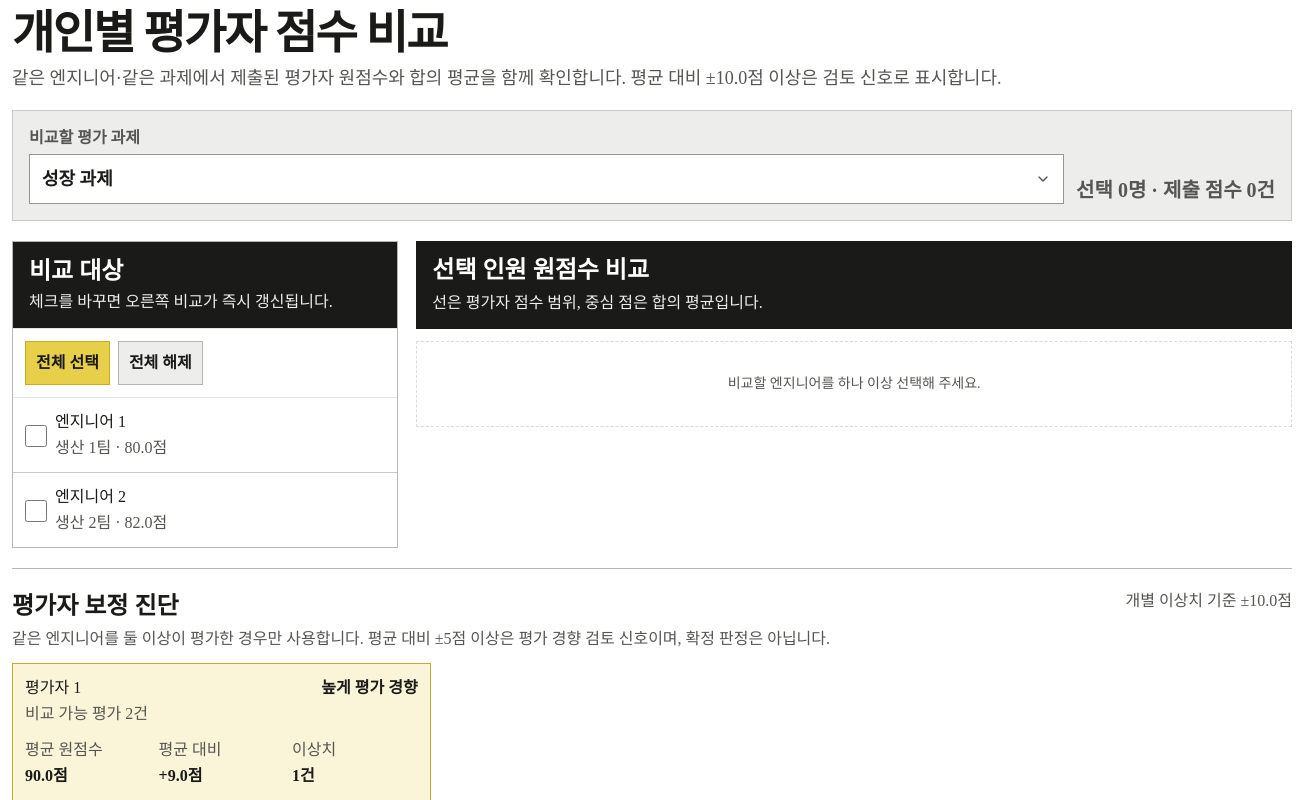
Test: EvaluatorScoreComparison › updates the visible score comparison when an engineer is unchecked
Expected: the text "비교할 엔지니어를 하나 이상 선택해 주세요." is shown, [416, 340, 1292, 426]
Click the checkbox named "엔지니어 1 선택". click: click(36, 436)
box: [25, 424, 47, 446]
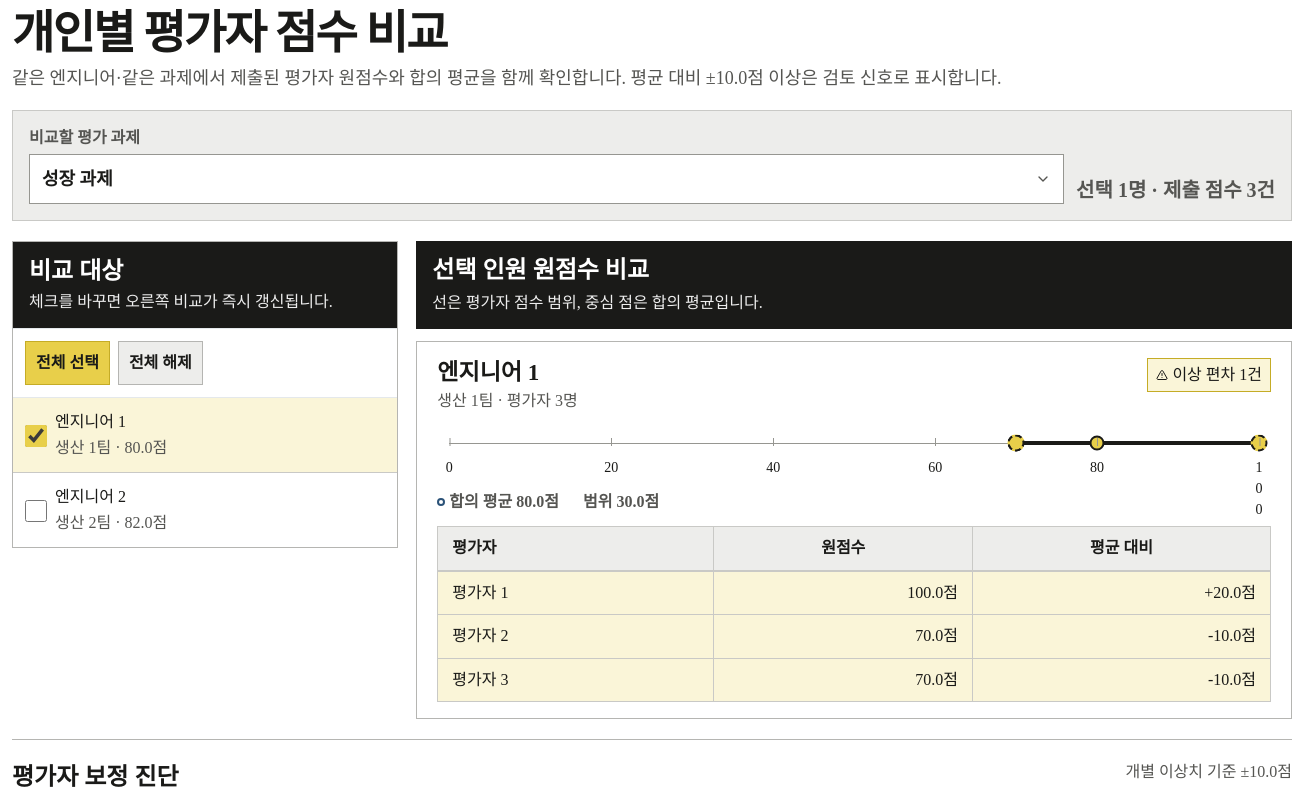
Now the picture named "엔지니어 1 평가자 원점수 범위" is shown, box [1008, 435, 1268, 452]
Now the text "이상 편차 1건" is shown, box [1147, 358, 1271, 392]
Click the checkbox named "엔지니어 1 선택". click: click(36, 436)
box: [25, 424, 47, 446]
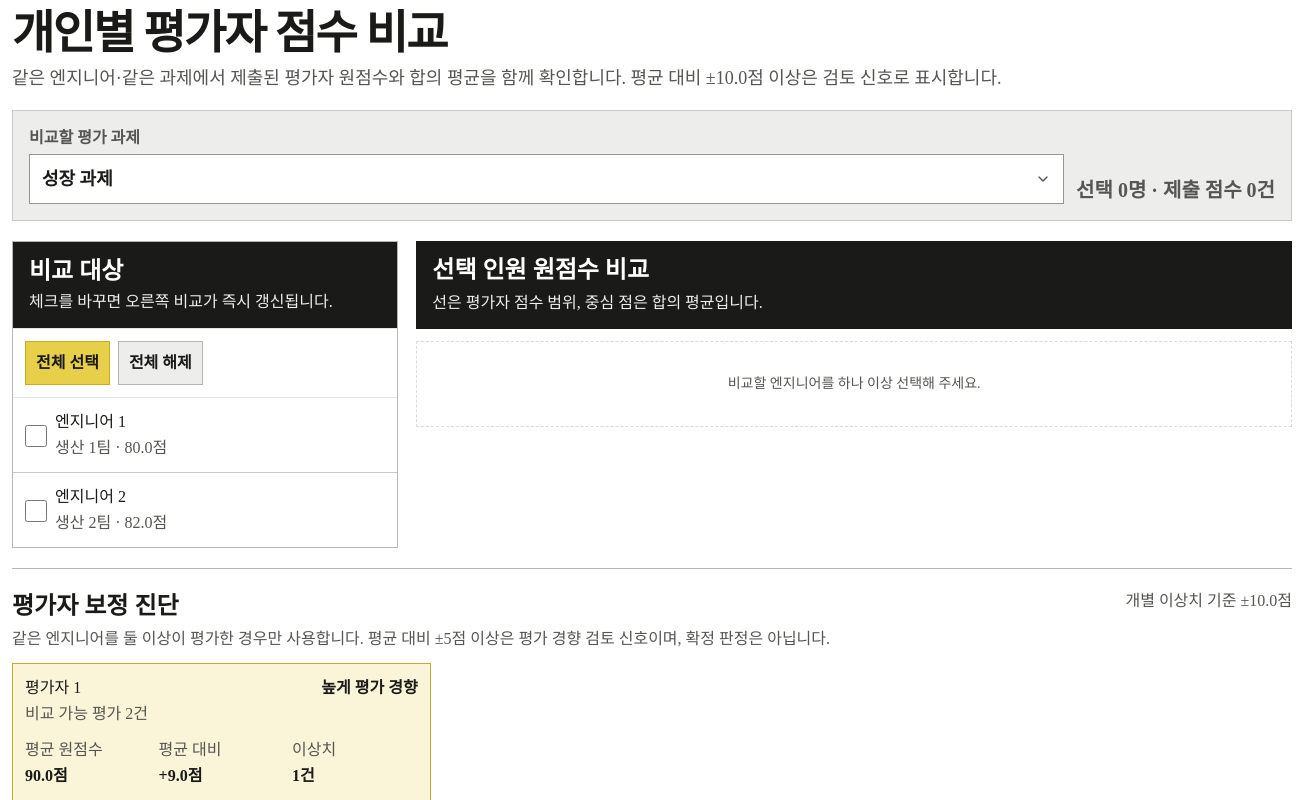
Now the text "비교할 엔지니어를 하나 이상 선택해 주세요." is shown, box [416, 340, 1292, 426]
